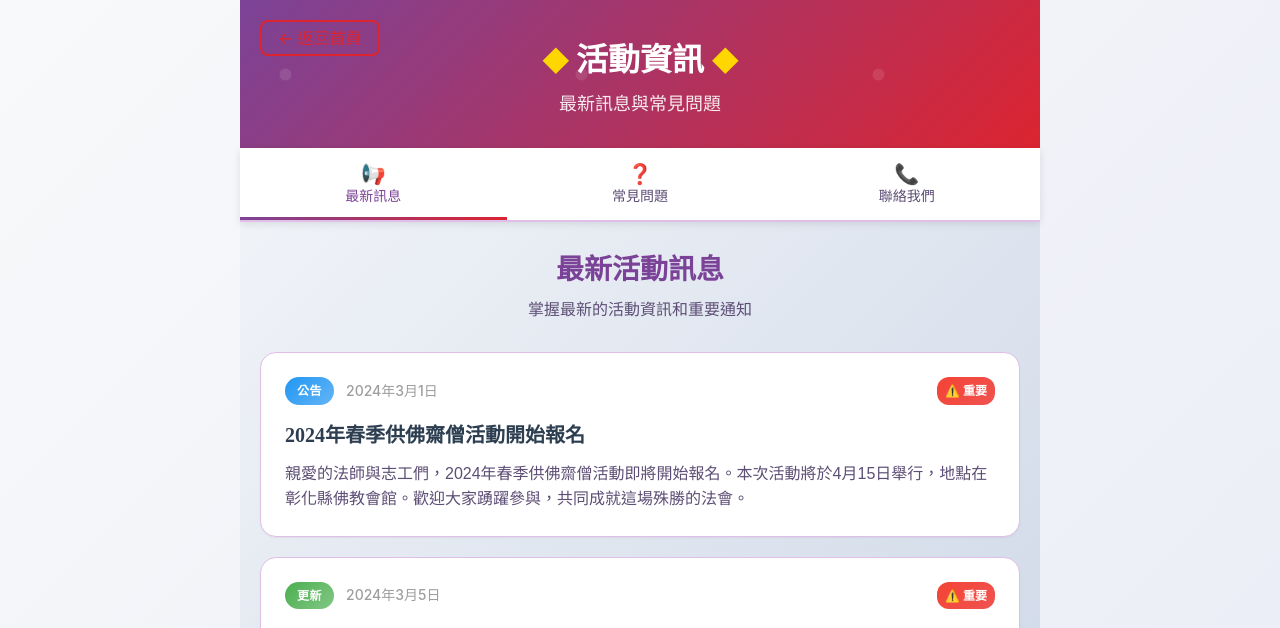
Test: InfoPage › 標籤切換功能 › 應該能夠切換到常見問題標籤
The image size is (1280, 628).
What coordinates should you click on to do the following:
click the tab "❓ 常見問題"
I would click on:
 (640, 184)
Its box is [507, 148, 773, 220].
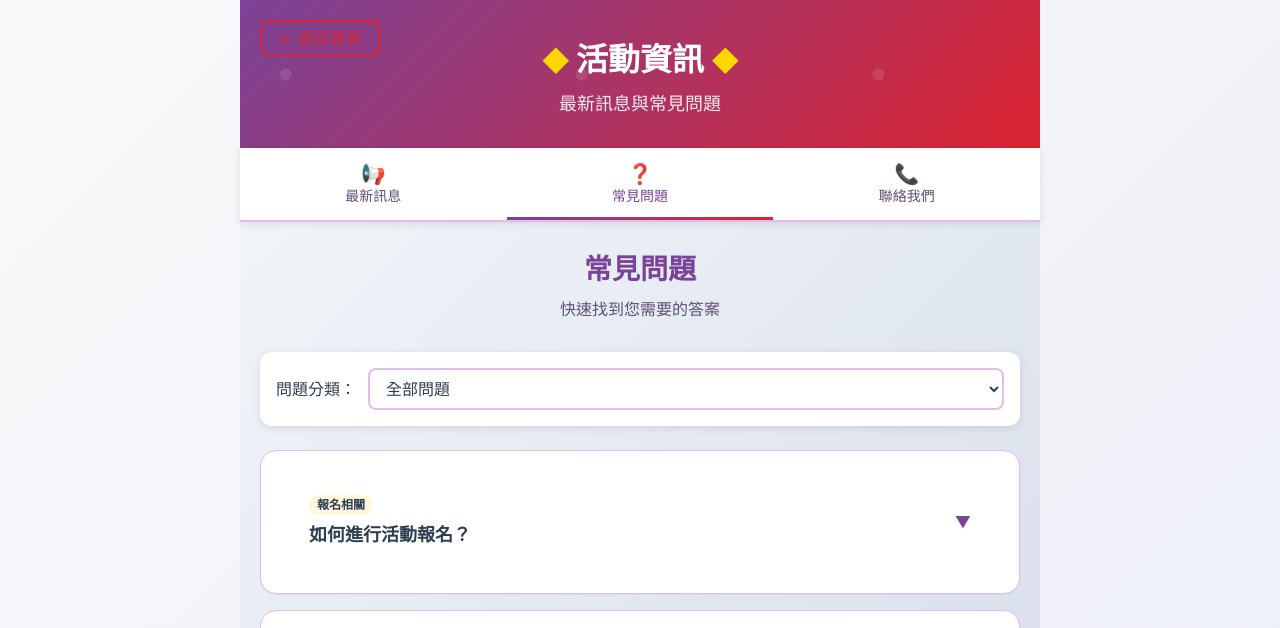
Expected: the text "常見問題" is shown 2 times, [612, 190, 668, 204]; [584, 254, 696, 285]
Expected: the text "快速找到您需要的答案" is shown, [560, 301, 720, 318]
